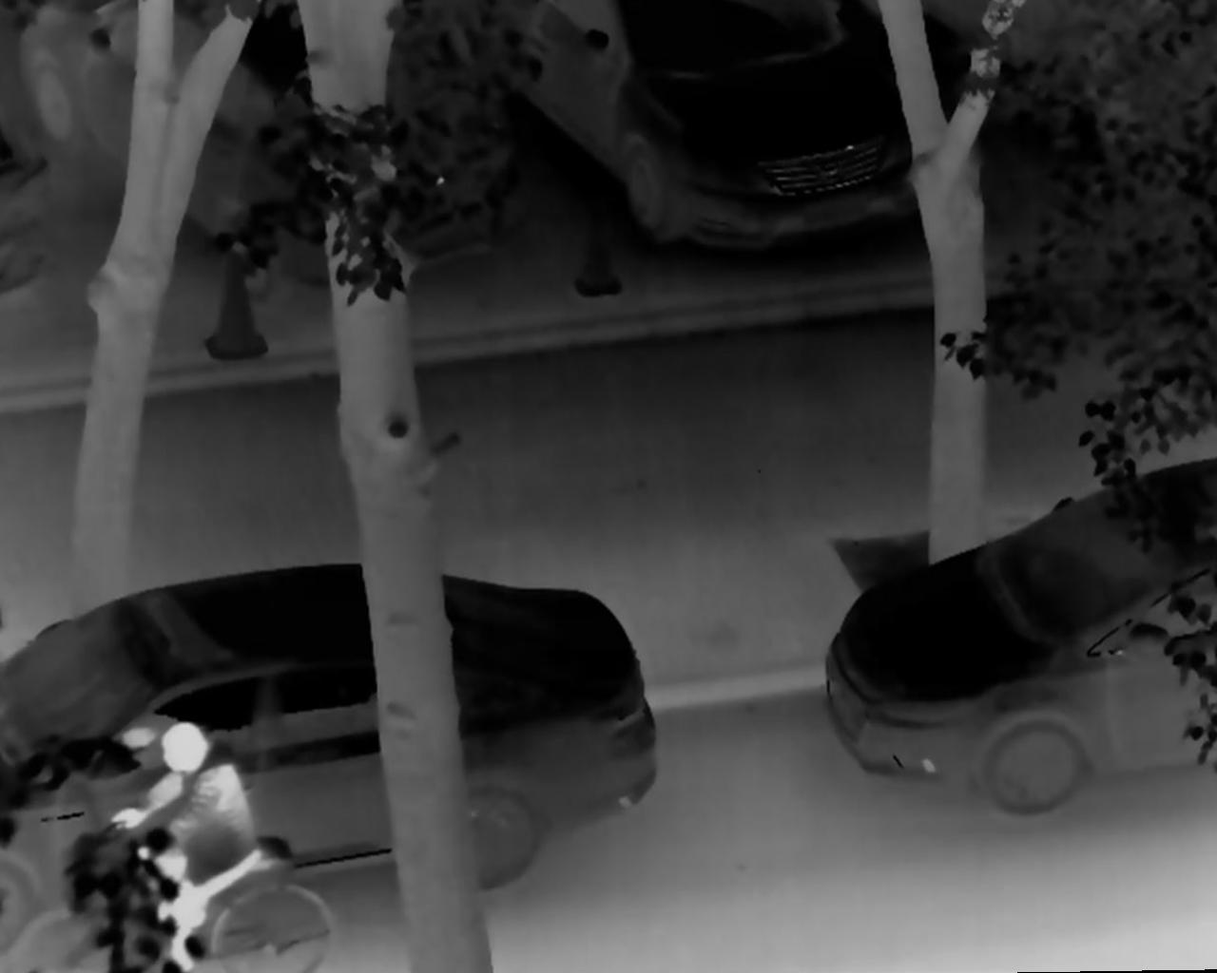person: (107, 720, 266, 973)
